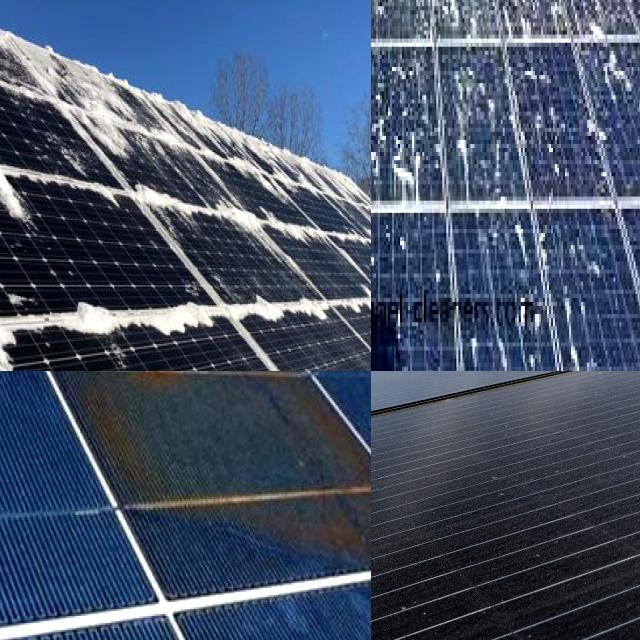bird: (446, 61, 504, 167), (516, 50, 568, 153), (590, 41, 640, 128), (498, 189, 534, 273), (381, 131, 428, 195), (371, 71, 396, 168), (371, 277, 395, 371), (467, 328, 517, 371), (371, 92, 393, 189), (371, 80, 394, 171), (555, 295, 609, 332), (432, 0, 485, 36), (371, 55, 394, 134), (371, 205, 390, 286), (506, 0, 550, 29), (371, 249, 383, 353), (371, 0, 392, 40), (422, 360, 446, 371)
dust: (391, 460, 628, 640), (371, 544, 479, 640), (560, 383, 640, 444)
panel: (0, 288, 233, 352), (0, 44, 123, 128), (130, 185, 300, 242), (132, 113, 268, 182), (0, 140, 86, 221), (238, 272, 358, 330), (0, 200, 43, 346), (277, 135, 371, 199), (313, 192, 371, 267), (0, 0, 33, 77), (78, 164, 121, 210)
shadow: (53, 371, 371, 580)
